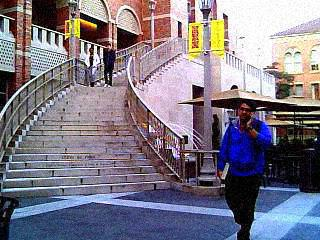Escaleras: (0, 87, 180, 189), (72, 51, 187, 87)
